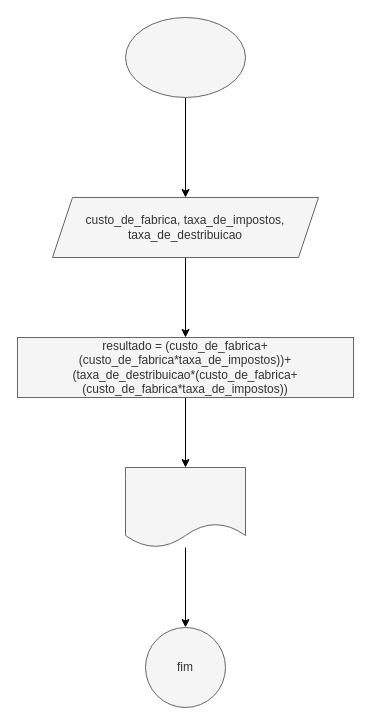
Image size: 371x725. Some labels were removed from this diagram. The shapes that lost their labels are listed below. From the top down, each one's box as (x1, y1, x2, y2) in pixels, then its label:
(124, 16, 246, 98): inicio
(124, 466, 246, 548): valor para o consumidor
